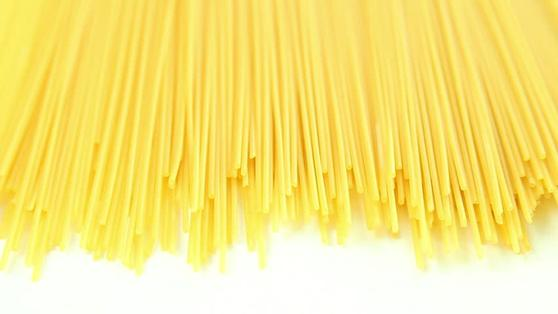spaghetti: (16, 7, 548, 258)
